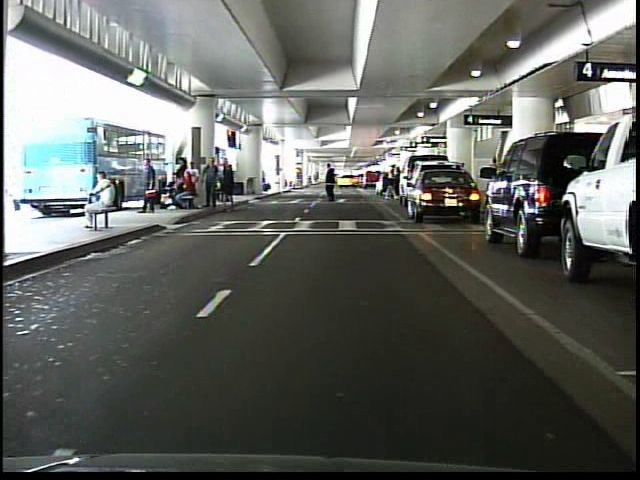person: (71, 165, 119, 234), (134, 153, 160, 217), (321, 162, 344, 208), (384, 161, 399, 198)
